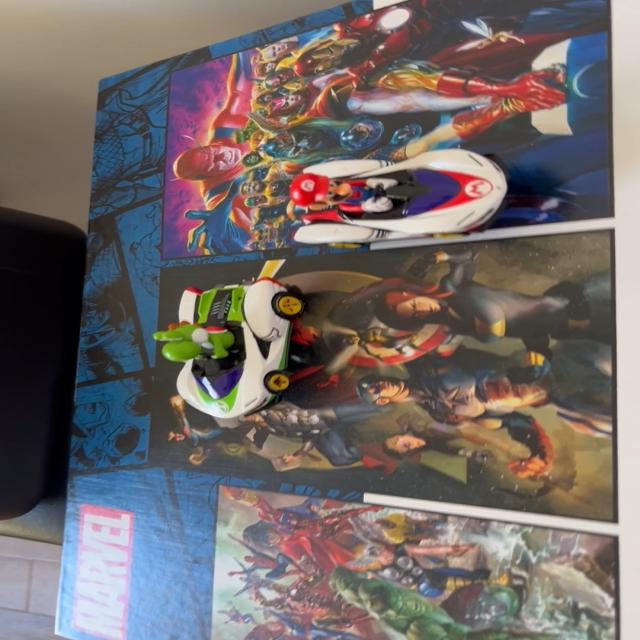mario: (279, 142, 536, 258), (50, 490, 160, 640)
yoshi: (146, 268, 321, 438)
